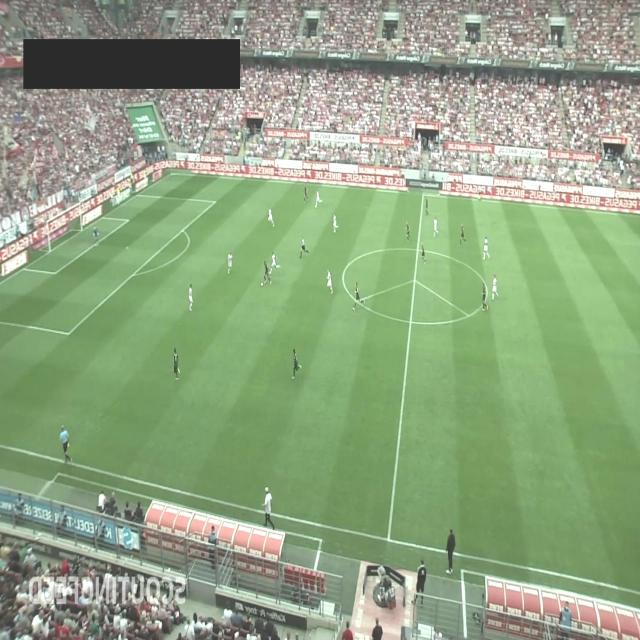ball: (260, 282, 264, 287)
goalkeeper: (92, 224, 99, 248)
player: (352, 282, 365, 312), (292, 348, 302, 380), (262, 261, 272, 286), (173, 346, 180, 379), (491, 274, 499, 300), (482, 236, 490, 260), (326, 269, 333, 295), (482, 282, 488, 312), (459, 224, 466, 245), (272, 252, 280, 270), (188, 284, 193, 312), (314, 190, 322, 207), (227, 252, 233, 274), (268, 208, 274, 227), (332, 214, 338, 232), (421, 244, 426, 262), (434, 216, 438, 238), (406, 220, 410, 240), (424, 197, 428, 217), (304, 186, 308, 202)
referee: (59, 424, 72, 464), (300, 235, 308, 259), (477, 182, 481, 202)
